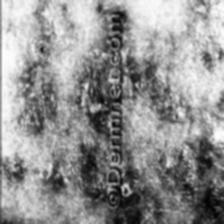Potentially Malignant Skin Tumors: (179, 122, 224, 210), (77, 87, 108, 117)
